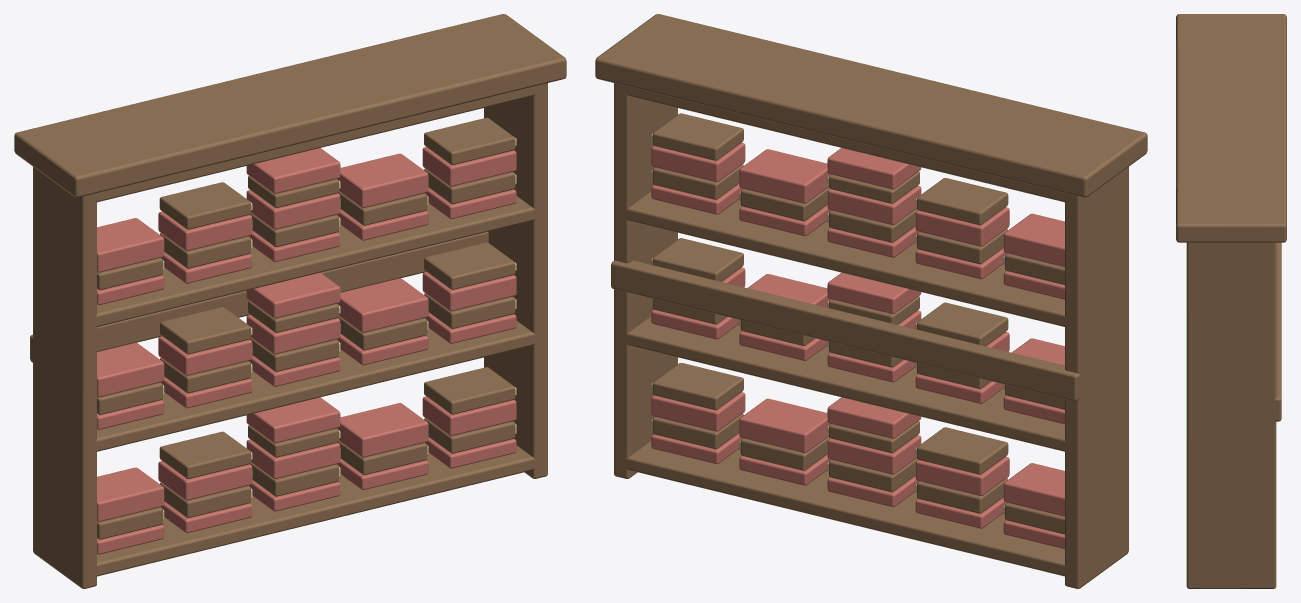
The model's file is volume-shelf-run-b06395c9.glb.
3 renders of one model, left to right at view 1: azimuth 30°, elevation 25°; view 2: azimuth 150°, elevation 25°; view 3: azimuth 270°, elevation 25°, orthographic. The views are drawn at different scales.
Visible parts, largest first — view 1: volume-shelf-run; view 2: volume-shelf-run; view 3: volume-shelf-run.
Part boxes in pixels (x1,y1,x2,y2): volume-shelf-run: (14,14,566,588); volume-shelf-run: (595,14,1147,588); volume-shelf-run: (1176,14,1286,588).
Bounding box in the file's own units: 1.9 × 1.55 × 0.42.
